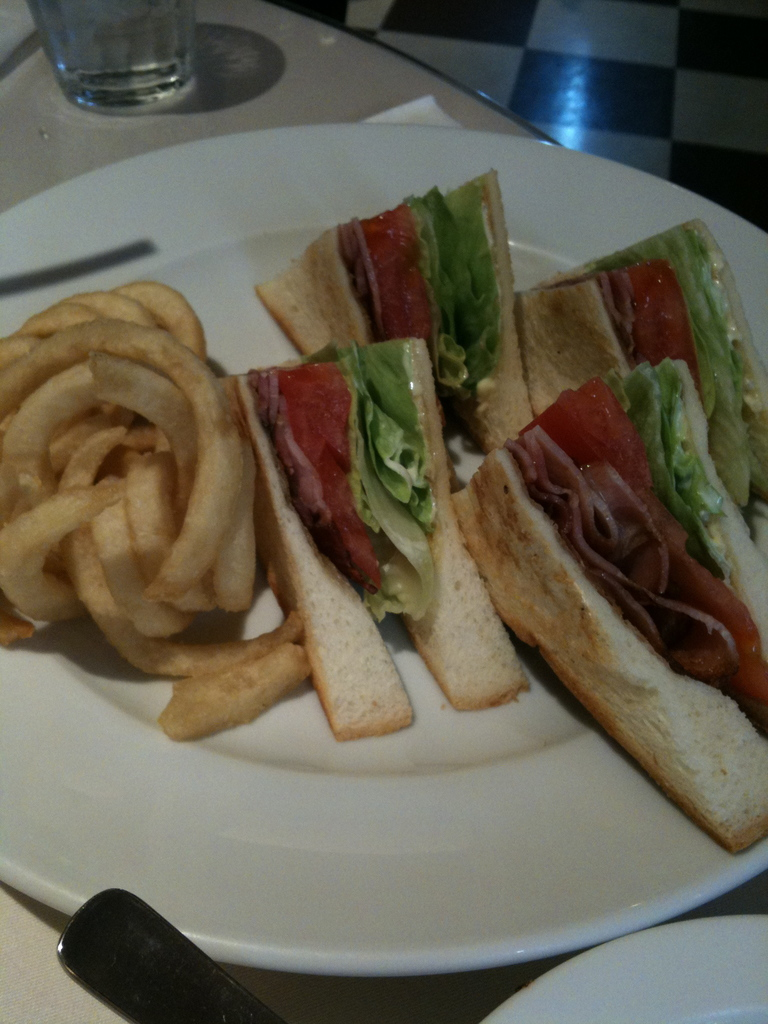sandwich: (456, 365, 767, 855), (214, 339, 531, 741), (255, 168, 540, 445), (520, 218, 767, 512)
